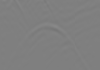hyperbola: (14, 20, 87, 66)
